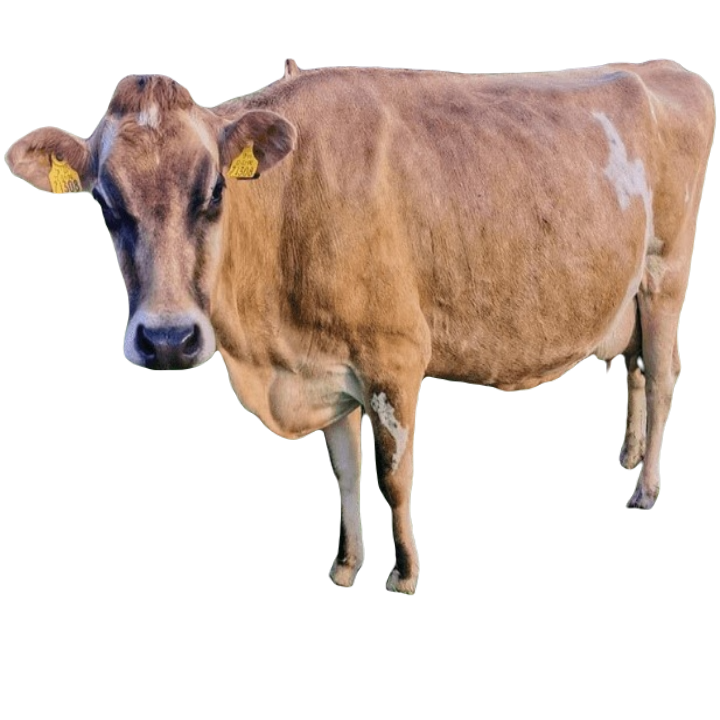Cow: (5, 56, 719, 592)
